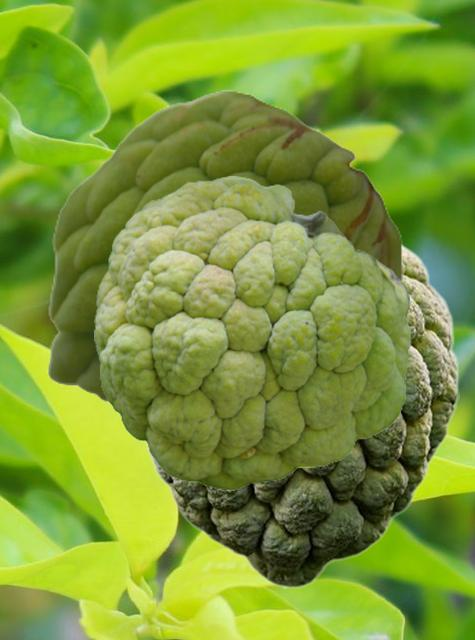atis: (47, 90, 401, 406), (142, 241, 458, 587), (94, 176, 410, 489)
